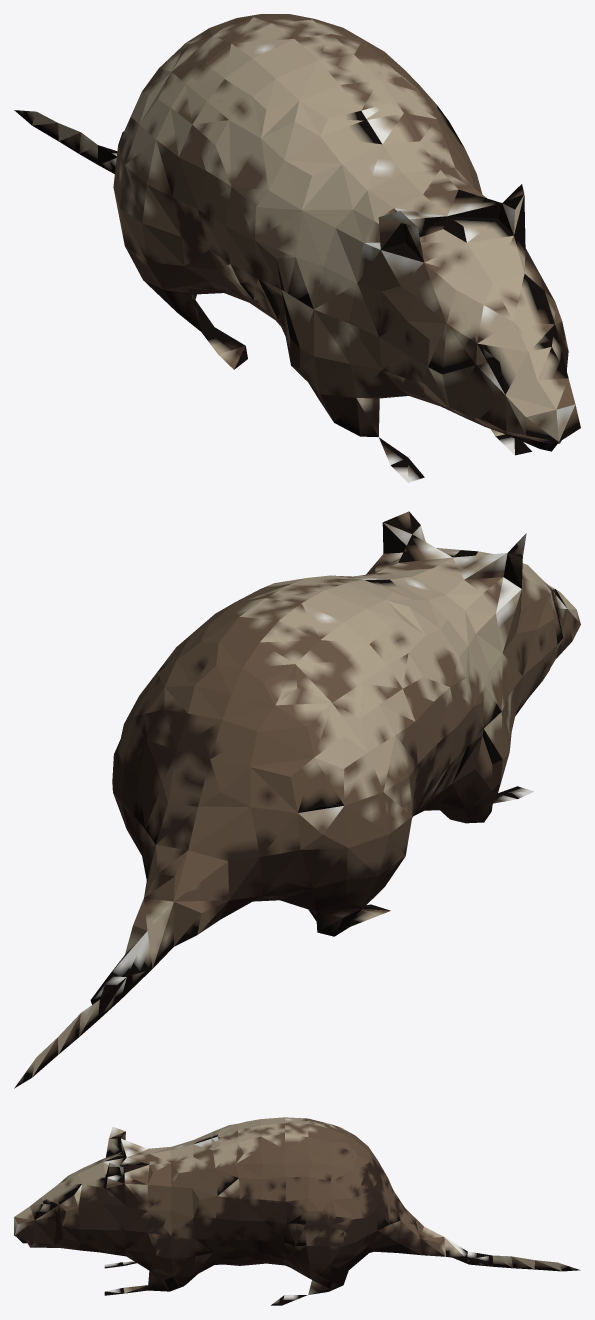
Rendered from street_rat.obj.
3 views of the same model, one above another, from view 1: azimuth 30°, elevation 25°; view 2: azimuth 150°, elevation 25°; view 3: azimuth 270°, elevation 25° (orthographic). The views are drawn at different scales.
Parts seen in each view (by area): view 1: mesh; view 2: mesh; view 3: mesh.
Part boxes in pixels (x1,y1,x2,y2): mesh: (14, 14, 580, 482); mesh: (14, 511, 580, 1088); mesh: (14, 1117, 580, 1305).
Bounding box in the file's own units: 13.21 × 14 × 45.82.
Materials: 1 (1 with a texture image).
